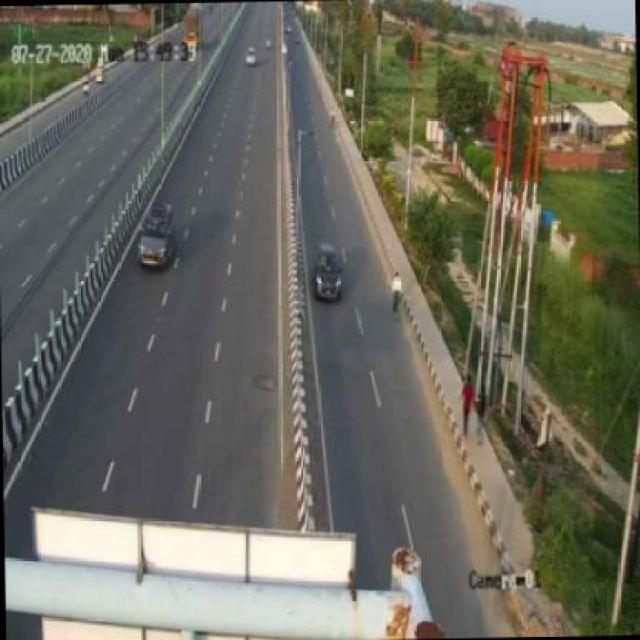car: (130, 197, 182, 272), (306, 236, 348, 304), (240, 45, 258, 72)
